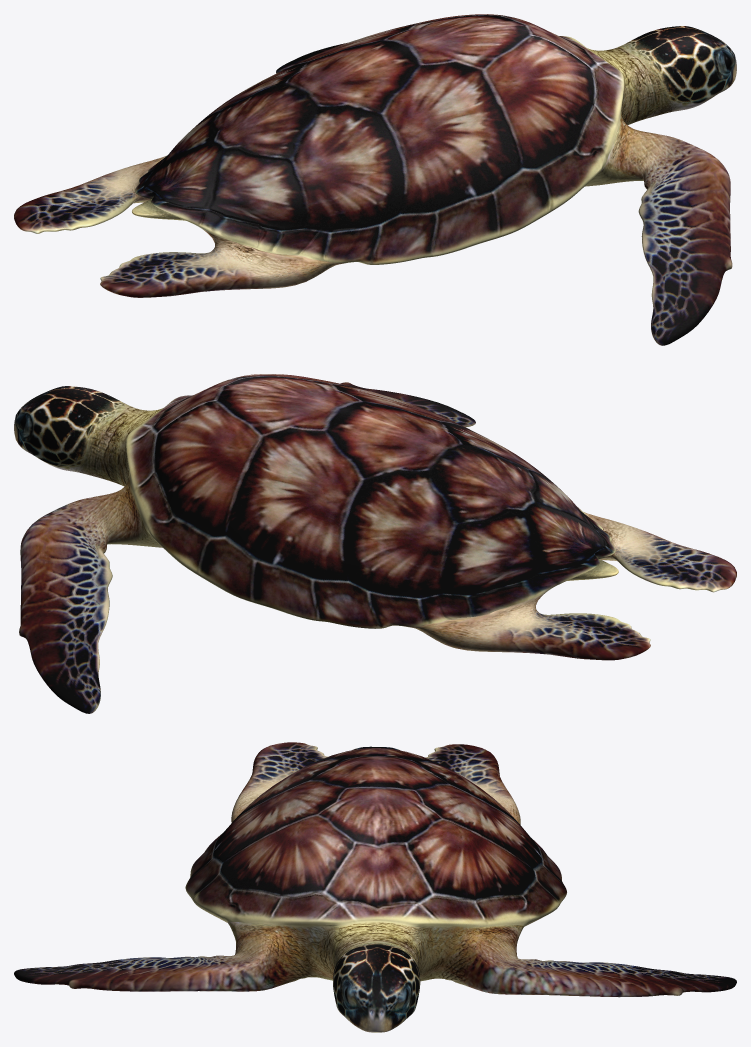
The model's file is Turtle.obj.
3 views of the same model, one above another, from view 1: azimuth 30°, elevation 25°; view 2: azimuth 150°, elevation 25°; view 3: azimuth 270°, elevation 25° (orthographic). The views are drawn at different scales.
Visible parts, largest first — view 1: 10042_Sea_Turtle_V1; view 2: 10042_Sea_Turtle_V1; view 3: 10042_Sea_Turtle_V1.
Part boxes in pixels (x1,y1,x2,y2): 10042_Sea_Turtle_V1: (14,14,736,345); 10042_Sea_Turtle_V1: (14,374,736,713); 10042_Sea_Turtle_V1: (14,742,736,1032).
Size of the model in its own units: 102 by 26.41 by 102.
Materials: 1 (1 with a texture image).
